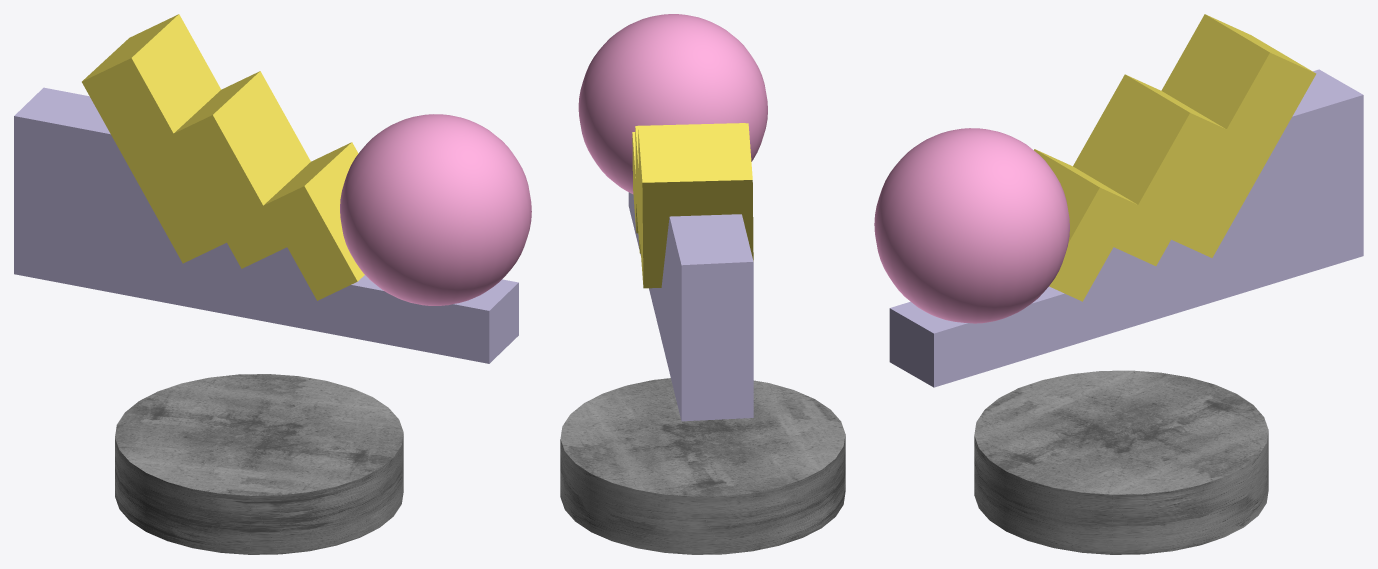
Rendered from tacobell.glb.
3 views of the same model, side by side, from view 1: azimuth 30°, elevation 25°; view 2: azimuth 150°, elevation 25°; view 3: azimuth 270°, elevation 25° (orthographic). The views are drawn at different scales.
Parts seen in each view (by area): view 1: 006_Cylinder_-_baked_4, 025_Box_2_&_Box_1_&_Box_6, 024_Box_3_&_Box_4_&_Box_5_&_Box_7_&_Box_8_&_Box_9, 023_Sphere_1; view 2: 006_Cylinder_-_baked_4, 023_Sphere_1, 025_Box_2_&_Box_1_&_Box_6, 024_Box_3_&_Box_4_&_Box_5_&_Box_7_&_Box_8_&_Box_9; view 3: 006_Cylinder_-_baked_4, 025_Box_2_&_Box_1_&_Box_6, 024_Box_3_&_Box_4_&_Box_5_&_Box_7_&_Box_8_&_Box_9, 023_Sphere_1.
Part boxes in pixels (<box>): 006_Cylinder_-_baked_4: <box>115,374,403,554</box>; 025_Box_2_&_Box_1_&_Box_6: <box>14,87,518,363</box>; 024_Box_3_&_Box_4_&_Box_5_&_Box_7_&_Box_8_&_Box_9: <box>82,14,364,300</box>; 023_Sphere_1: <box>340,114,531,305</box>; 006_Cylinder_-_baked_4: <box>560,378,845,554</box>; 023_Sphere_1: <box>578,14,767,193</box>; 025_Box_2_&_Box_1_&_Box_6: <box>628,192,753,421</box>; 024_Box_3_&_Box_4_&_Box_5_&_Box_7_&_Box_8_&_Box_9: <box>632,123,753,288</box>; 006_Cylinder_-_baked_4: <box>974,370,1268,554</box>; 025_Box_2_&_Box_1_&_Box_6: <box>889,69,1363,387</box>; 024_Box_3_&_Box_4_&_Box_5_&_Box_7_&_Box_8_&_Box_9: <box>1034,14,1316,301</box>; 023_Sphere_1: <box>874,128,1069,323</box>.
Size of the model in its own units: 23.18 by 28.37 by 28.8.
4 materials, 1 textured.
